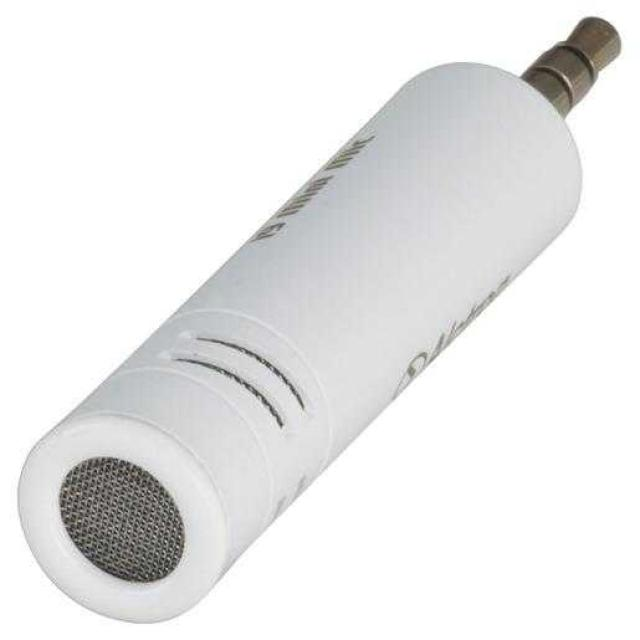microphone: (21, 24, 602, 622)
